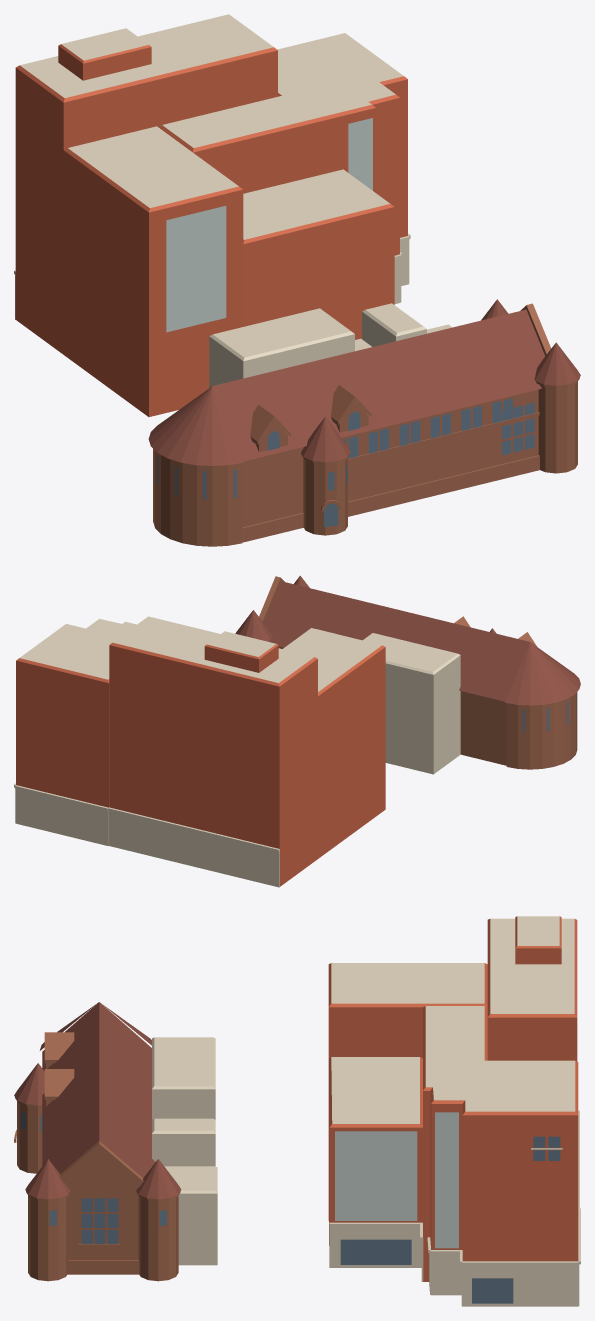
The model's file is nola-ogden-museum.glb.
3 views of the same model, one above another, from view 1: azimuth 30°, elevation 25°; view 2: azimuth 150°, elevation 25°; view 3: azimuth 270°, elevation 25° (orthographic). The views are drawn at different scales.
Parts seen in each view (by area): view 1: Ogden Museum of Southern Art; view 2: Ogden Museum of Southern Art; view 3: Ogden Museum of Southern Art.
Part boxes in pixels (left/top/right/bottom): Ogden Museum of Southern Art: left=14, top=14, right=580, bottom=546; Ogden Museum of Southern Art: left=14, top=575, right=580, bottom=887; Ogden Museum of Southern Art: left=14, top=916, right=580, bottom=1306.
Size of the model in its own units: 52.25 by 30.5 by 61.31.
